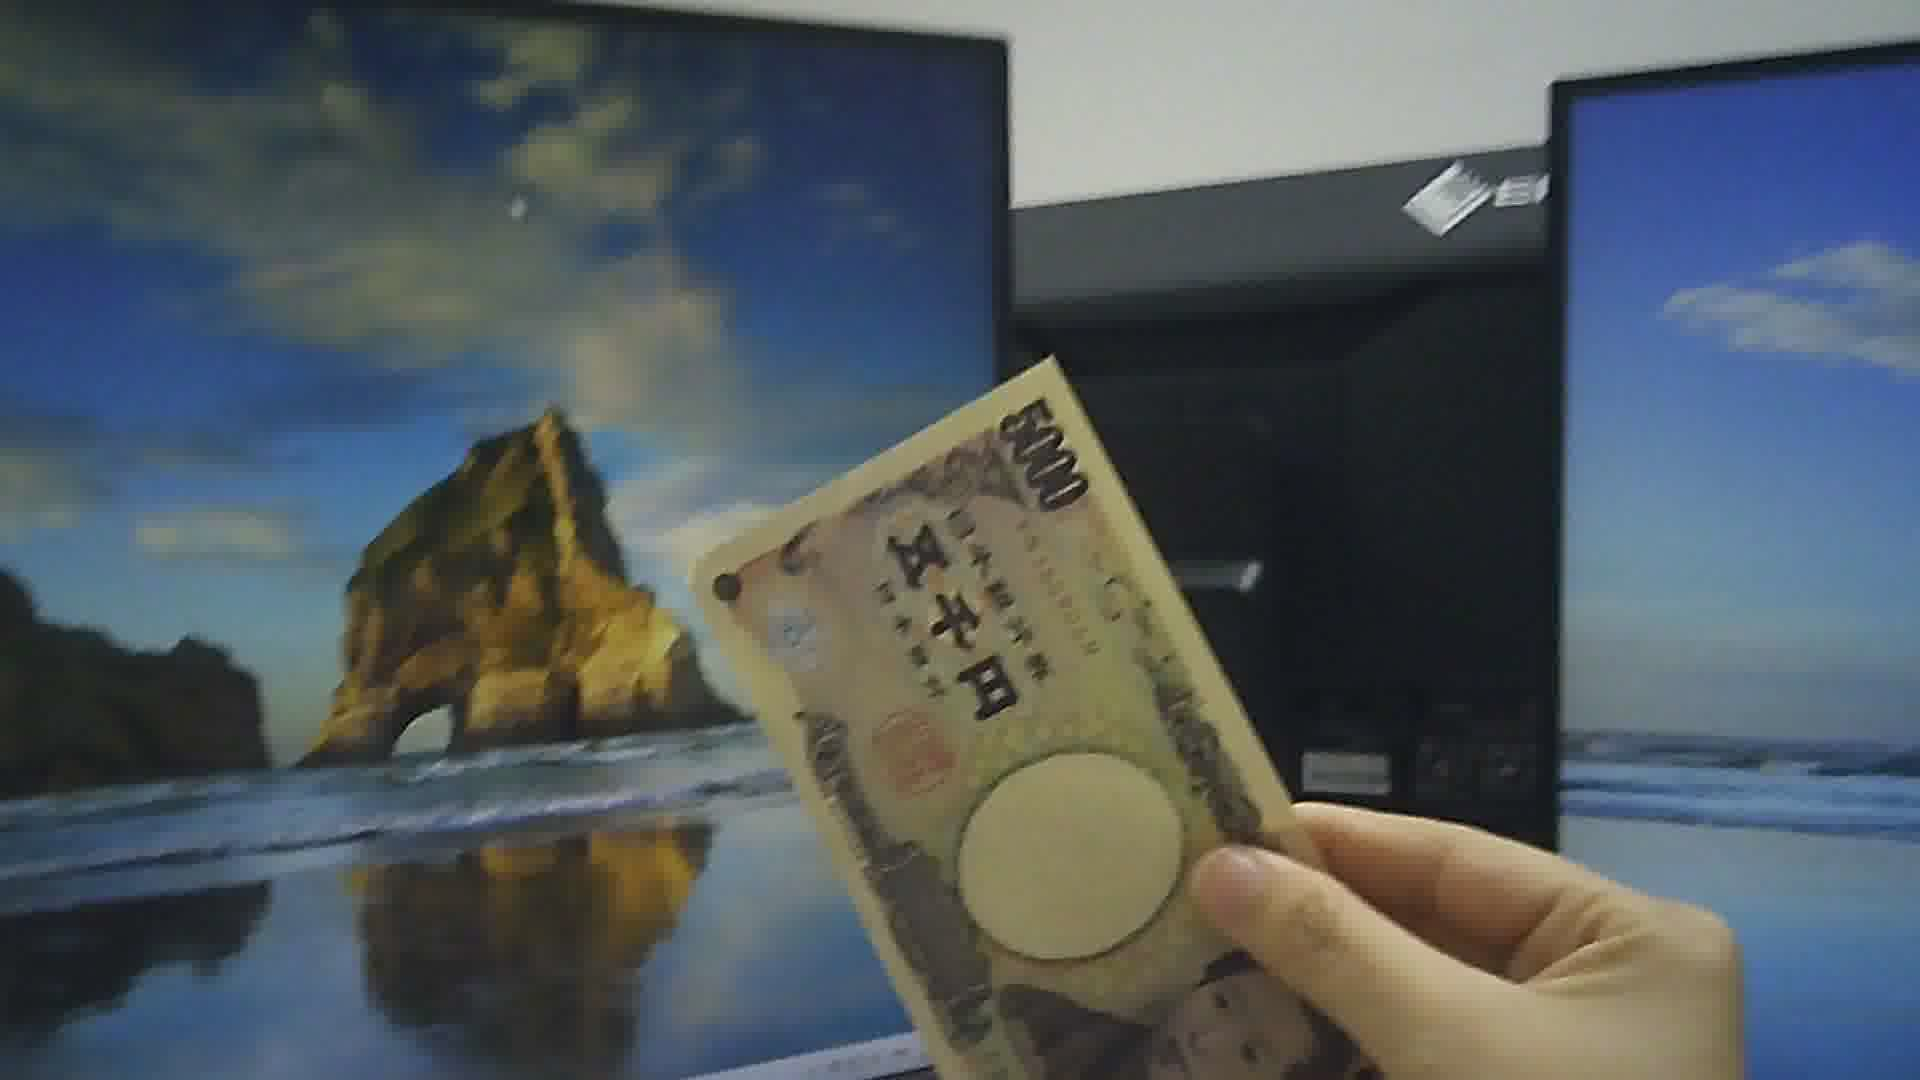5,000 Yen: (695, 371, 1370, 1077)
